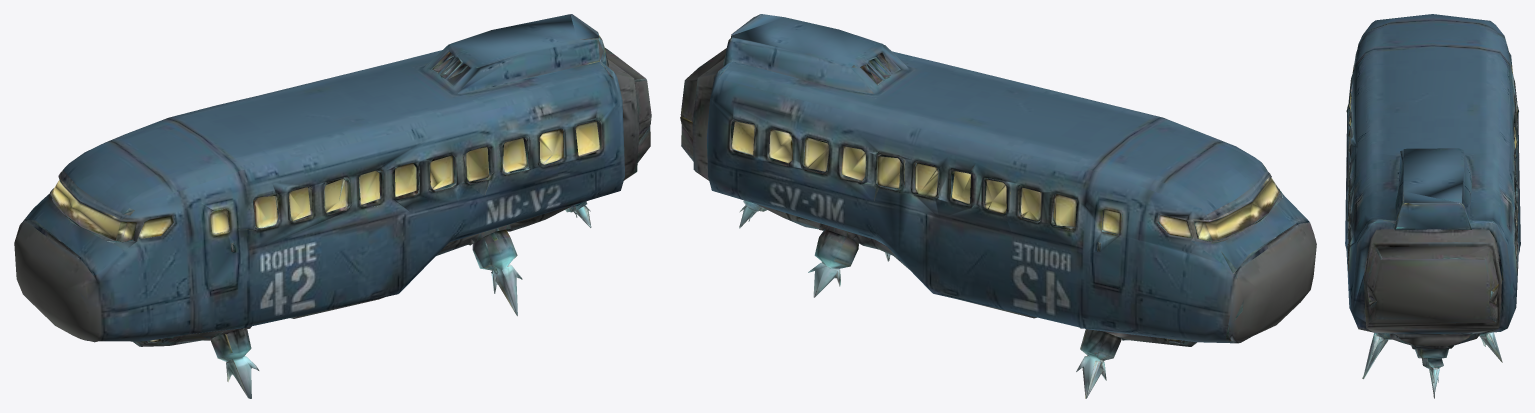
The model's file is shuttle.glb.
3 renders of one model, left to right at view 1: azimuth 30°, elevation 25°; view 2: azimuth 150°, elevation 25°; view 3: azimuth 270°, elevation 25°, orthographic. The views are drawn at different scales.
Bounding box in the file's own units: 0.9507 × 0.4013 × 0.2646.
Materials: 1 (1 with a texture image).
